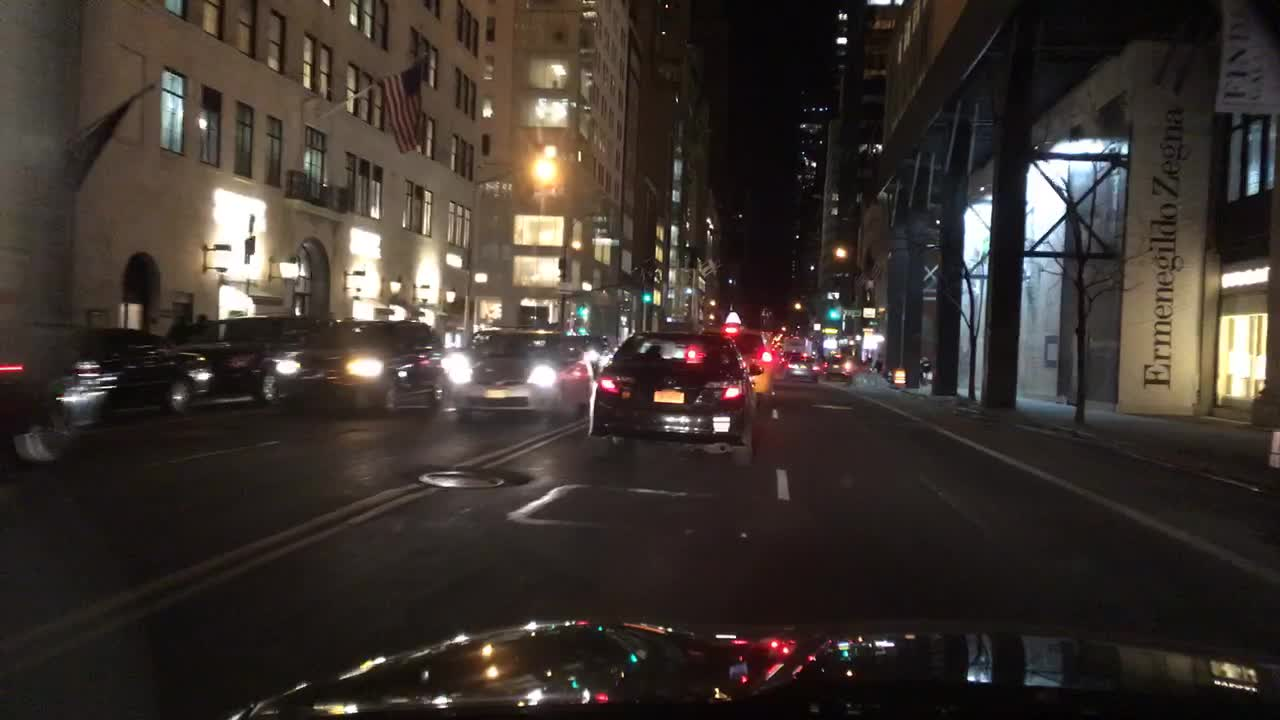car: (590, 327, 754, 469), (266, 320, 452, 408), (48, 323, 213, 421), (170, 315, 339, 407), (449, 327, 595, 422), (0, 326, 68, 462), (698, 310, 773, 400), (570, 331, 612, 378), (784, 354, 820, 381), (822, 351, 854, 378), (774, 349, 796, 368)
person: (163, 310, 189, 341), (192, 310, 207, 324)
traffic light: (639, 280, 651, 304), (827, 300, 837, 322), (573, 300, 584, 315)
traffic sign: (1211, 0, 1279, 116), (860, 305, 874, 320)
